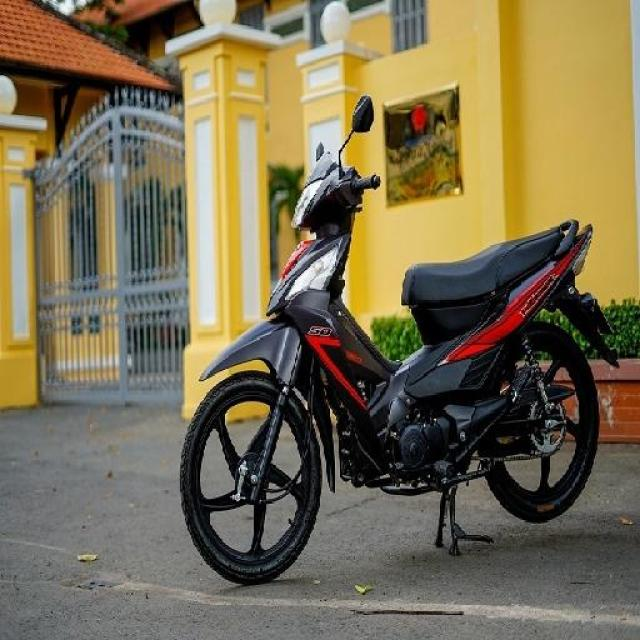All: (180, 134, 624, 585)
Head: (287, 151, 383, 227)
Tail: (531, 213, 597, 281)
